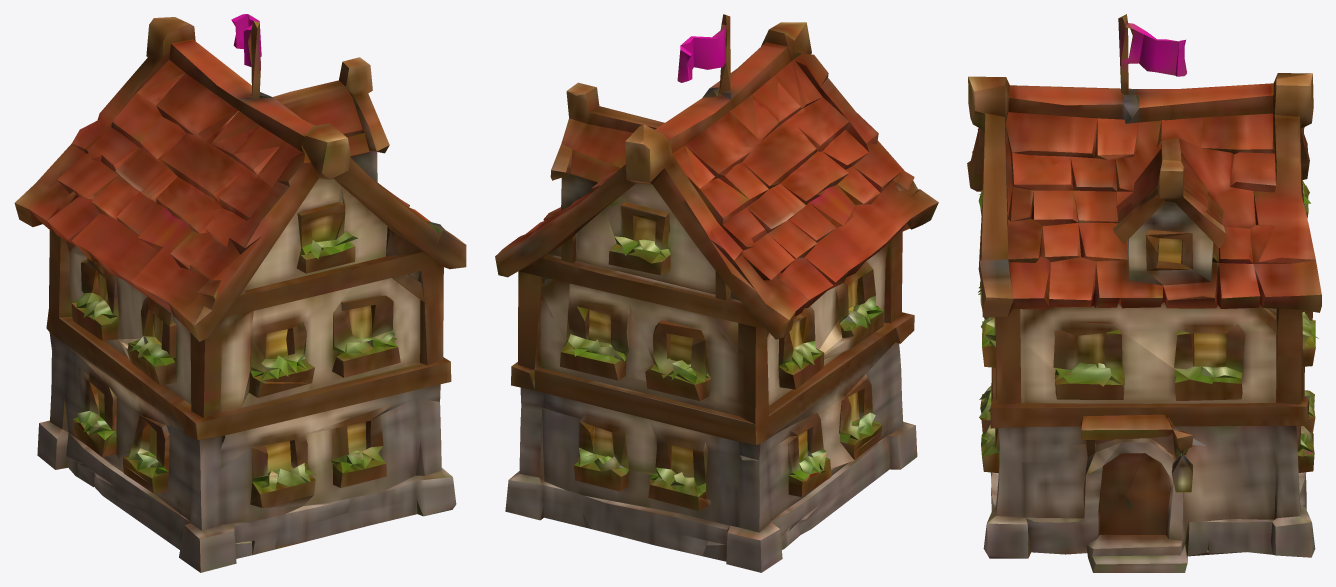
File: house2.lod2.glb
3 renders of one model, left to right at view 1: azimuth 30°, elevation 25°; view 2: azimuth 150°, elevation 25°; view 3: azimuth 270°, elevation 25°, orthographic. The views are drawn at different scales.
Parts seen in each view (by area): view 1: house2.lod2_uv; view 2: house2.lod2_uv; view 3: house2.lod2_uv.
Part boxes in pixels (left/top/right/bottom): house2.lod2_uv: left=14, top=14, right=466, bottom=572; house2.lod2_uv: left=495, top=14, right=938, bottom=572; house2.lod2_uv: left=967, top=14, right=1321, bottom=572.
Bounding box in the file's own units: 1.34 × 1.92 × 1.28.
1 material, 1 textured.
